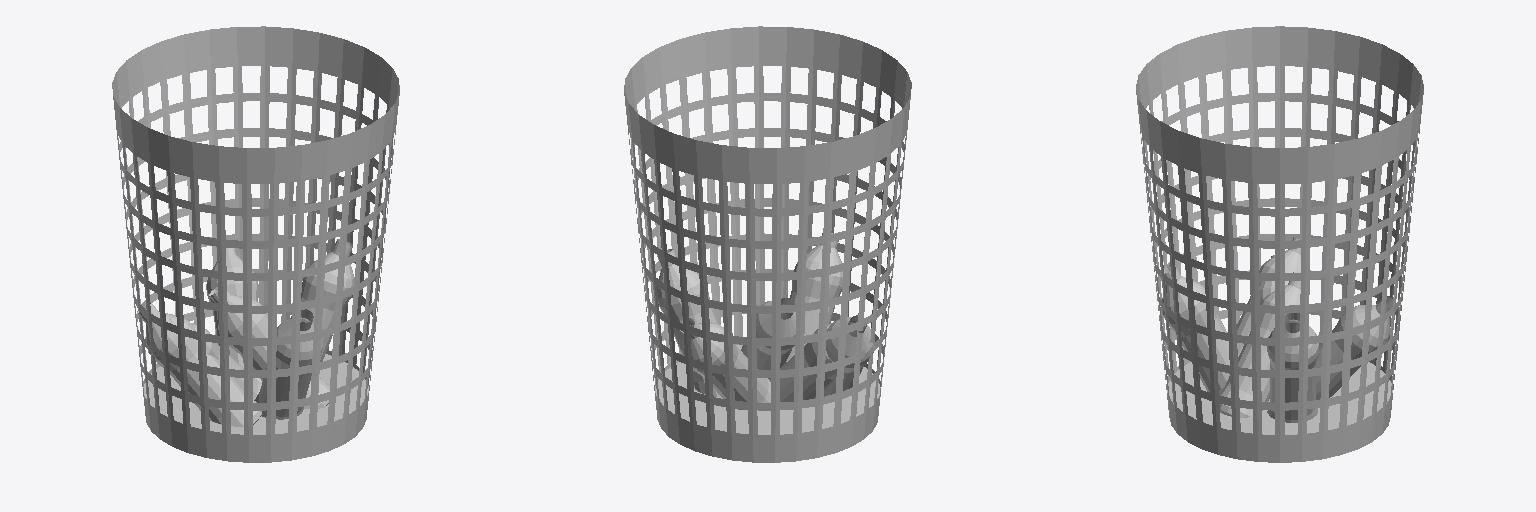
Rendered from DustbinWithCan_000041.obj.
3 views of the same model, side by side, from view 1: azimuth 30°, elevation 25°; view 2: azimuth 150°, elevation 25°; view 3: azimuth 270°, elevation 25° (orthographic).
Visible parts, largest first — view 1: Cylinder, Plane.005, Plane.001, Plane.004, Plane.003, Plane.002, Plane.006; view 2: Cylinder, Plane.002, Plane.001, Plane.003, Plane.004, Plane.005, Plane.006; view 3: Cylinder, Plane.001, Plane.004, Plane.003, Plane.002, Plane.005.
Boxes of the visible parts, box(x1,y1,x2,y2) form: Cylinder: box(112, 26, 399, 462); Plane.005: box(137, 302, 261, 426); Plane.001: box(254, 309, 322, 419); Plane.004: box(209, 286, 329, 408); Plane.003: box(290, 239, 354, 361); Plane.002: box(206, 248, 261, 382); Plane.006: box(169, 318, 261, 399); Cylinder: box(624, 26, 911, 462); Plane.002: box(680, 318, 770, 409); Plane.001: box(786, 233, 842, 361); Plane.003: box(657, 249, 720, 396); Plane.004: box(741, 298, 795, 378); Plane.005: box(824, 315, 874, 396); Plane.006: box(769, 321, 863, 401); Cylinder: box(1136, 26, 1423, 462); Plane.001: box(1162, 265, 1238, 393); Plane.004: box(1219, 272, 1300, 417); Plane.003: box(1267, 313, 1318, 422); Plane.002: box(1316, 296, 1392, 399); Plane.005: box(1237, 237, 1300, 354).
Bounding box in the file's own units: 2.6 × 3.36 × 2.6.